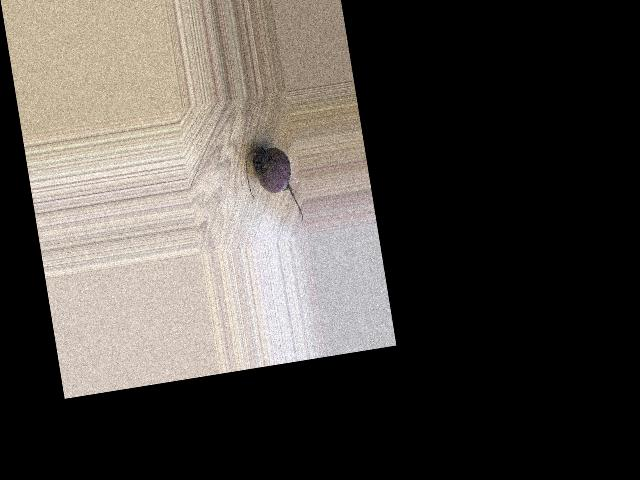beet: (243, 142, 303, 228)
